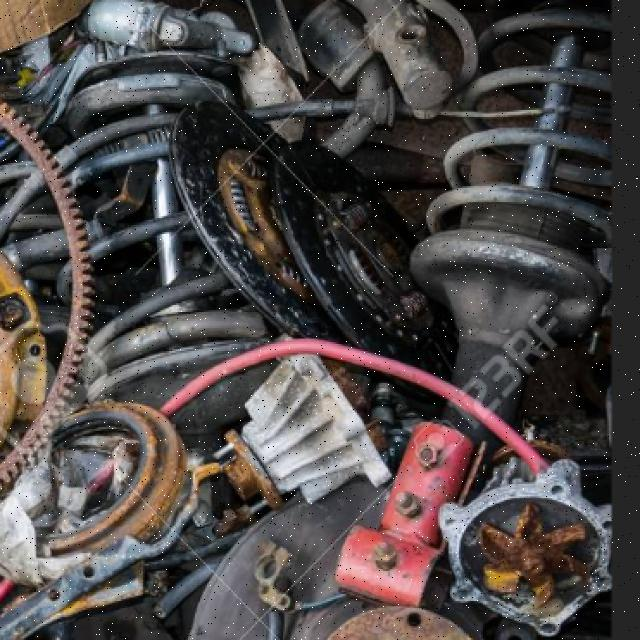shock absorber: (406, 1, 615, 439), (62, 51, 272, 436)
